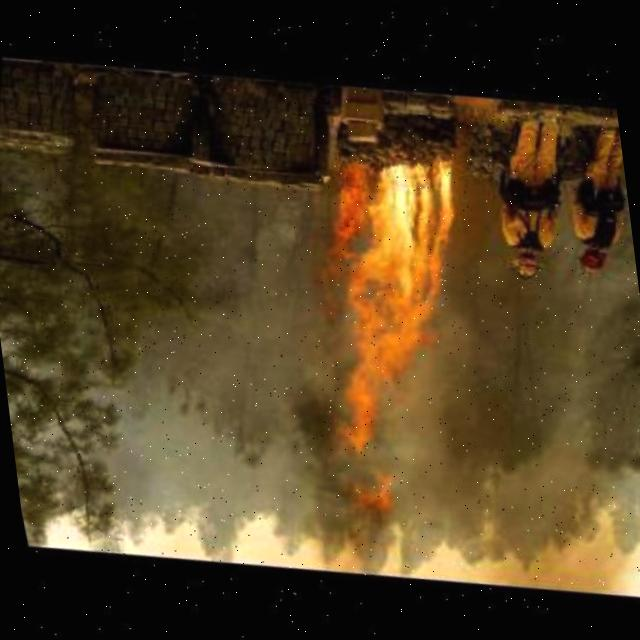fire: (236, 124, 515, 504)
